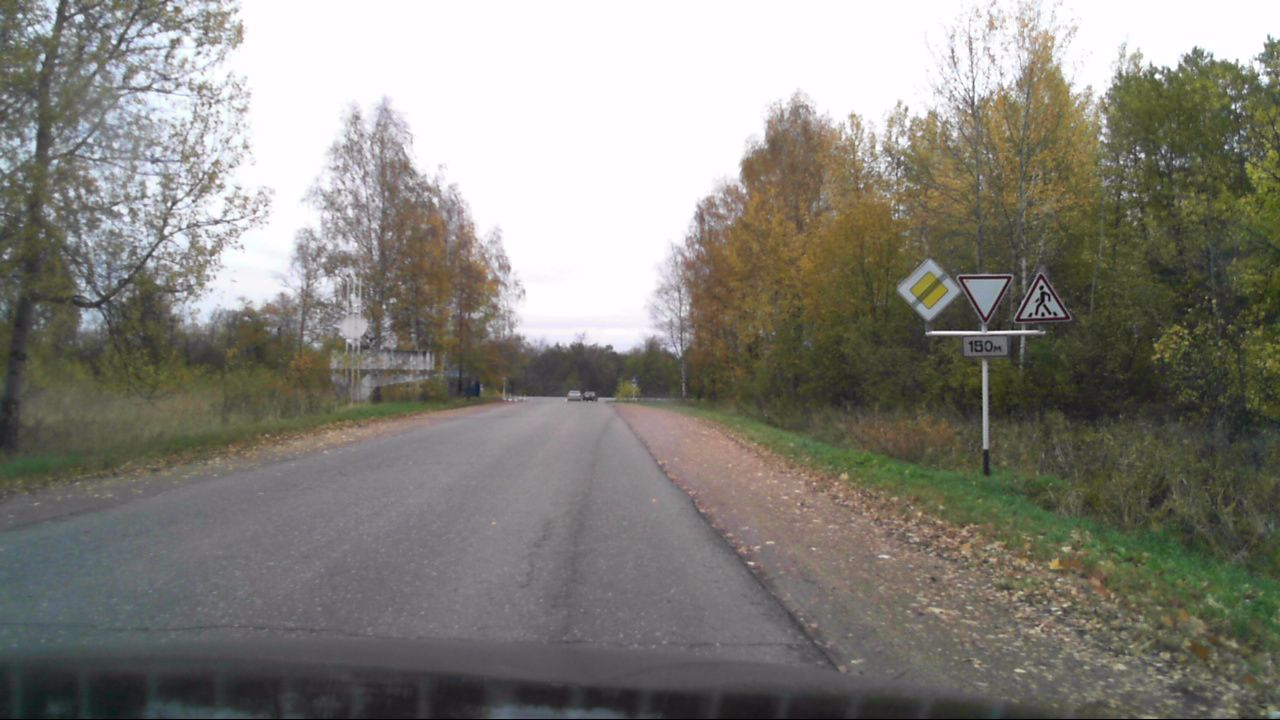main road: (894, 259, 961, 323)
